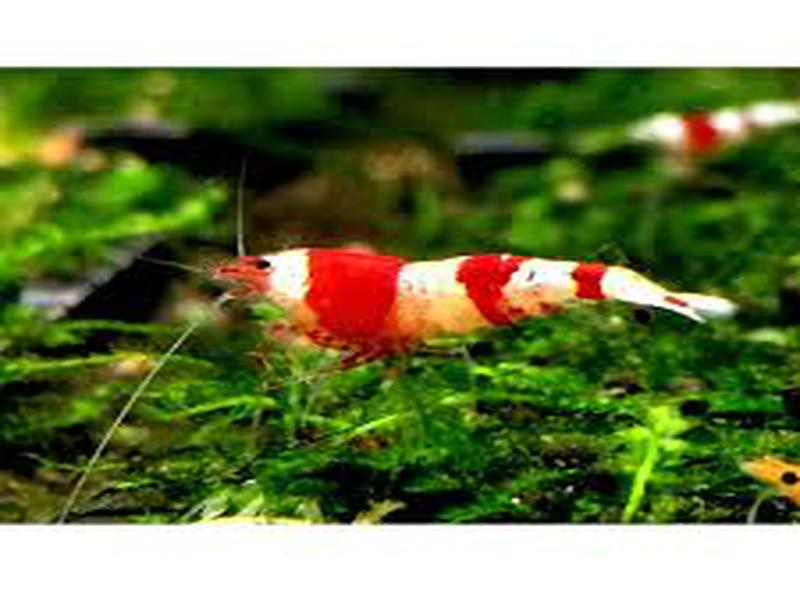shrimp: (213, 250, 740, 326)
